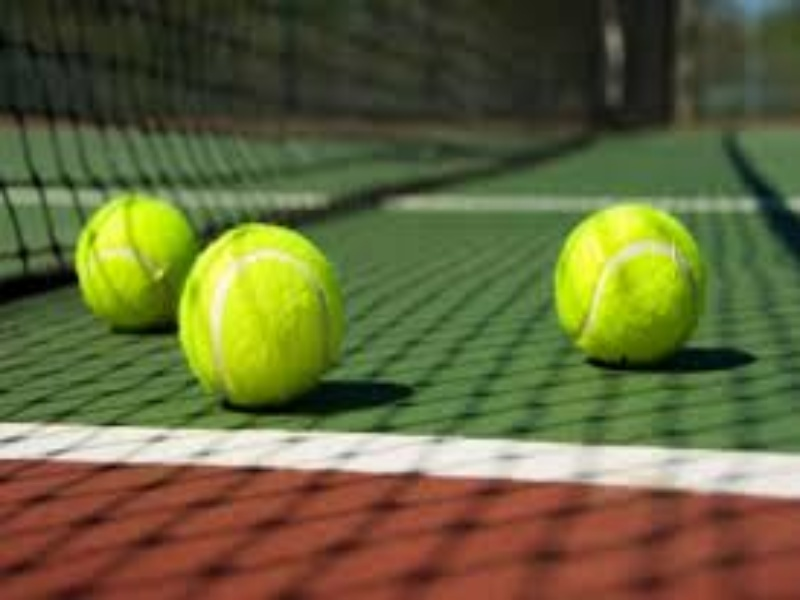tennis ball: (534, 193, 742, 377), (183, 216, 357, 399), (73, 184, 206, 351)
